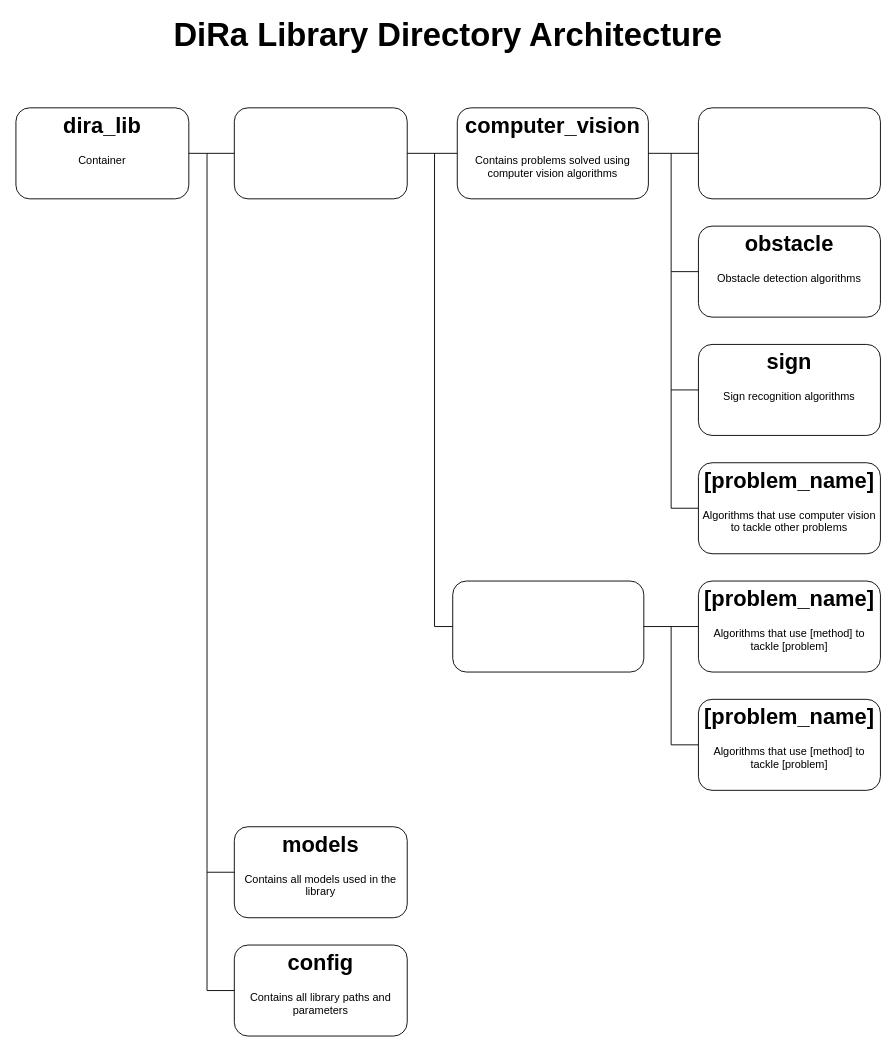
This 896x1052 diagram has some shape labels left out. Each missing label, with the centre of its shape:
[method_name] Future method. TBD: the point at 548,626
algorithms Contains all algorithms to solve autonomous problems: the point at 320,153
lane Lane detection algorithms: the point at 789,153
